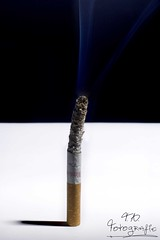cigarette: (63, 93, 91, 229)
